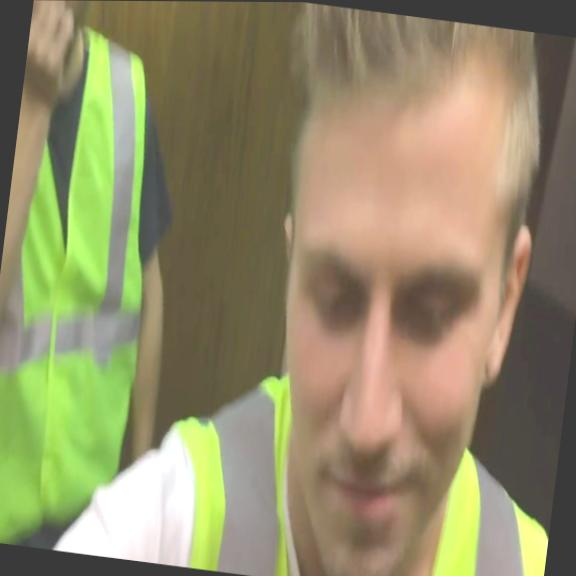safety_vest: (0, 11, 177, 557), (146, 362, 563, 576)
